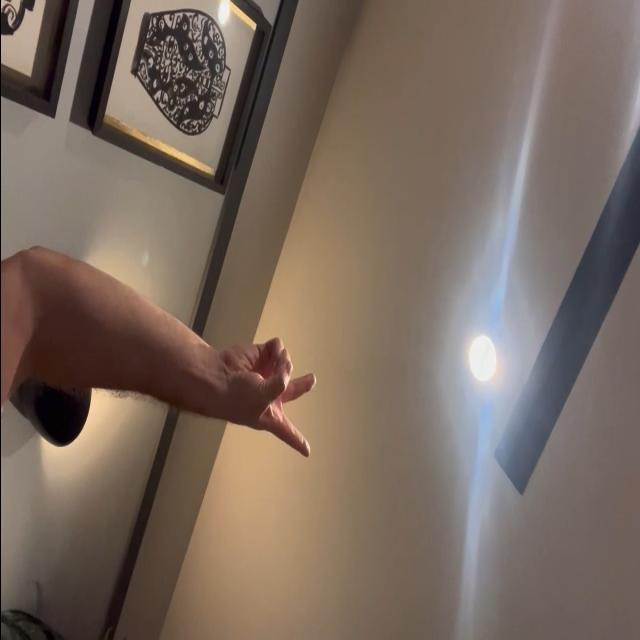Scissors: (224, 330, 318, 464)
